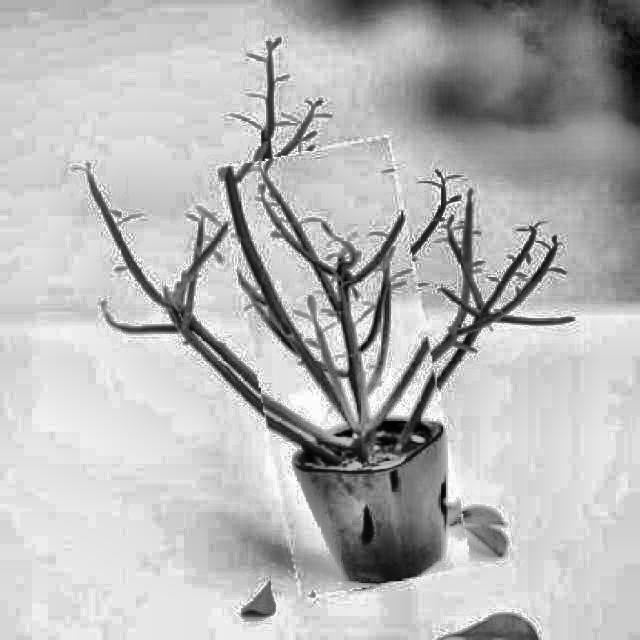plants: (237, 142, 451, 592)
